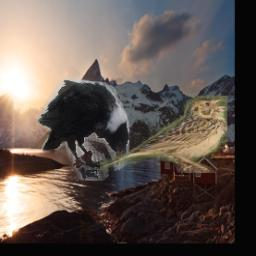Crow: (37, 78, 129, 181)
Sparrow: (100, 96, 227, 173)
